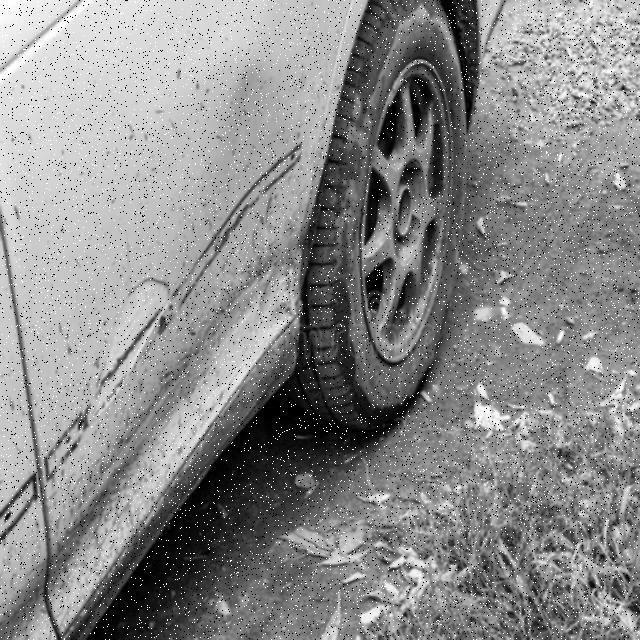doorouter-dent: (3, 3, 341, 514)
